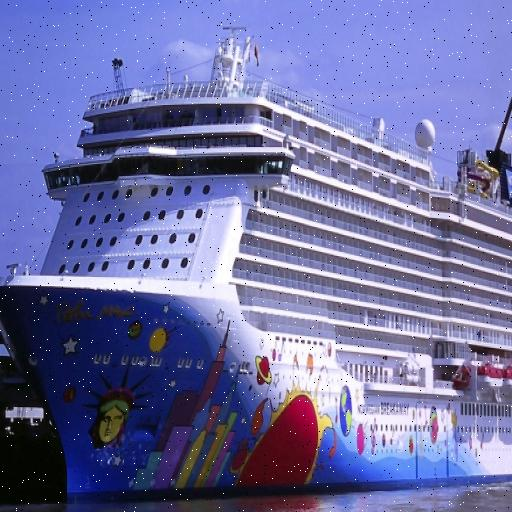cruises: (1, 16, 512, 501)
